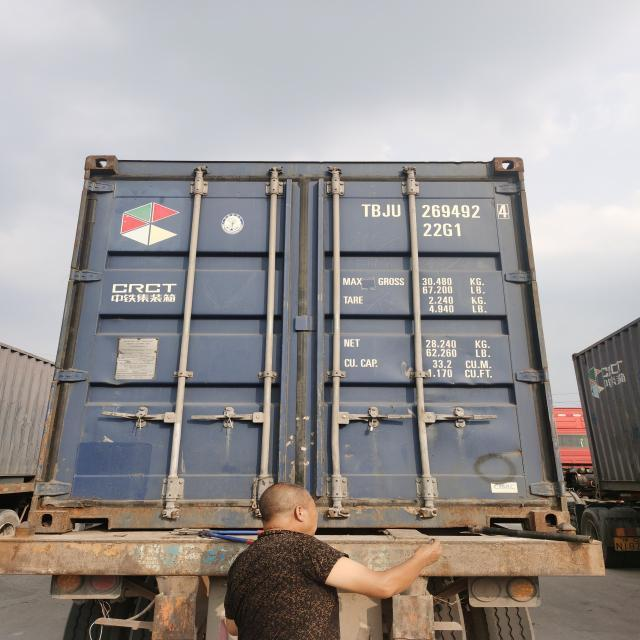ISO: (425, 223, 461, 240)
container_number: (362, 200, 515, 222)
